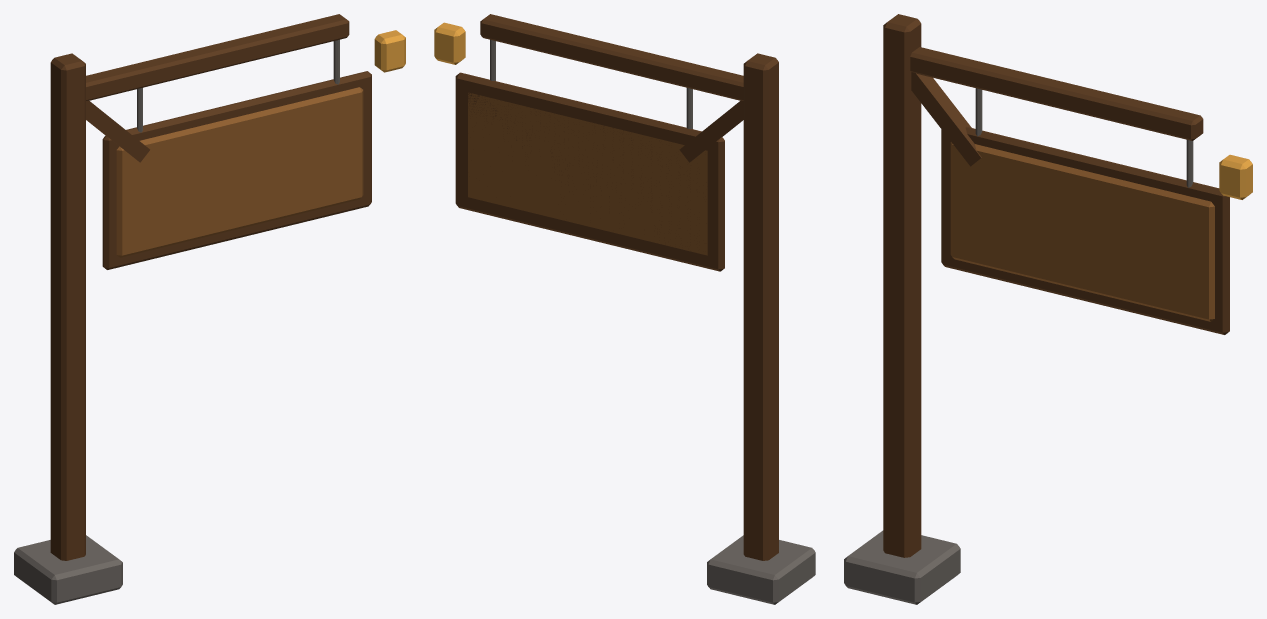
File: PR_Decor_Tabela.fbx
3 renders of one model, left to right at view 1: azimuth 30°, elevation 25°; view 2: azimuth 150°, elevation 25°; view 3: azimuth 330°, elevation 25°, orthographic. The views are drawn at different scales.
Visible parts, largest first — view 1: PR_Decor_Tabela; view 2: PR_Decor_Tabela; view 3: PR_Decor_Tabela.
Part boxes in pixels (x1,y1,x2,y2): PR_Decor_Tabela: (14, 14, 405, 604); PR_Decor_Tabela: (434, 14, 815, 604); PR_Decor_Tabela: (844, 14, 1252, 604).
Size of the model in its own units: 2.04 by 2.8 by 0.4.
Materials: 1 (1 with a texture image).
